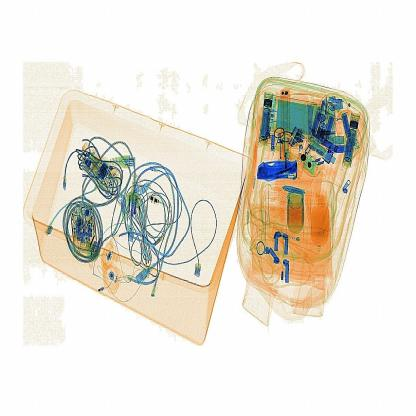knife: (256, 154, 299, 180)
